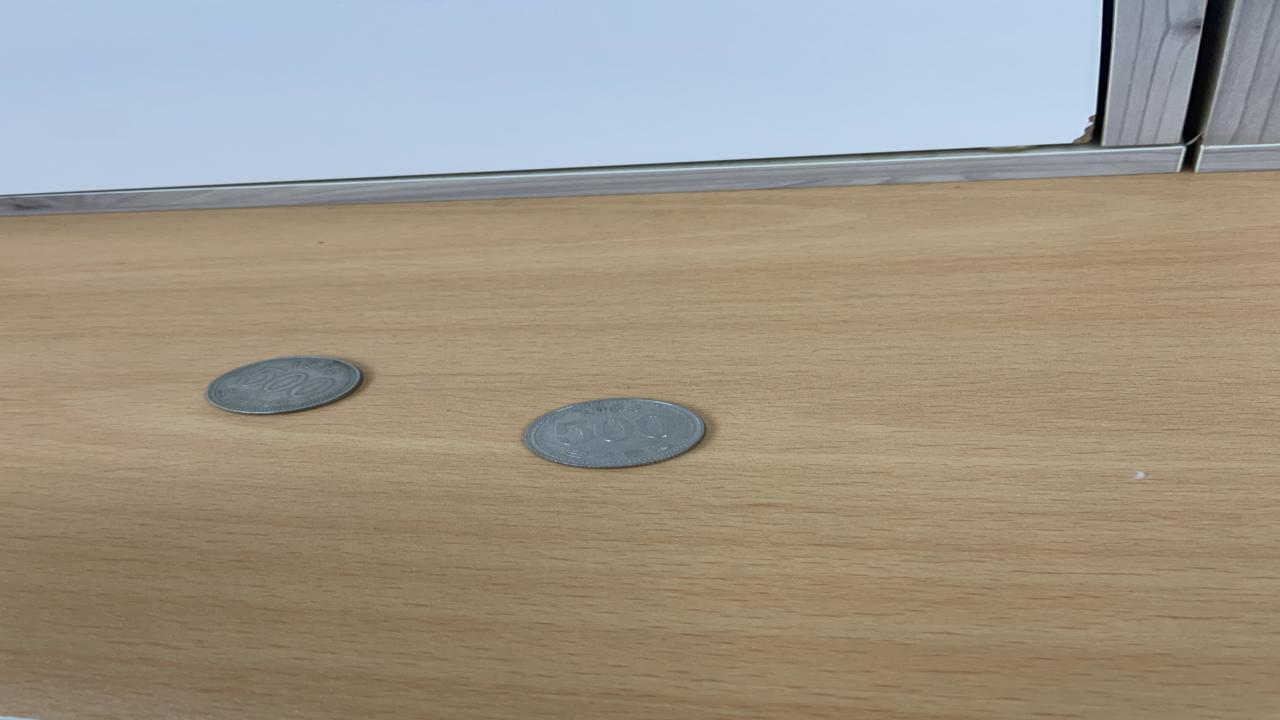coin: (518, 395, 712, 471), (195, 354, 364, 417)
